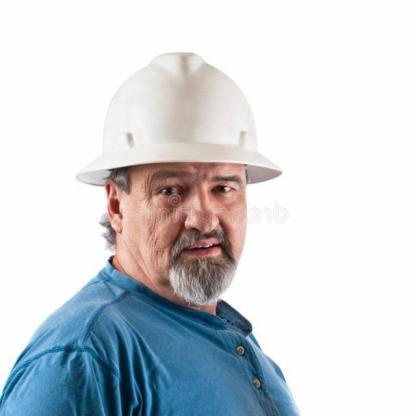white: (67, 50, 285, 192)
